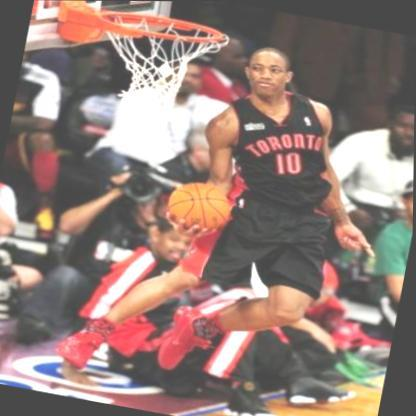basketball: (163, 176, 236, 235)
rim: (83, 5, 229, 125)
